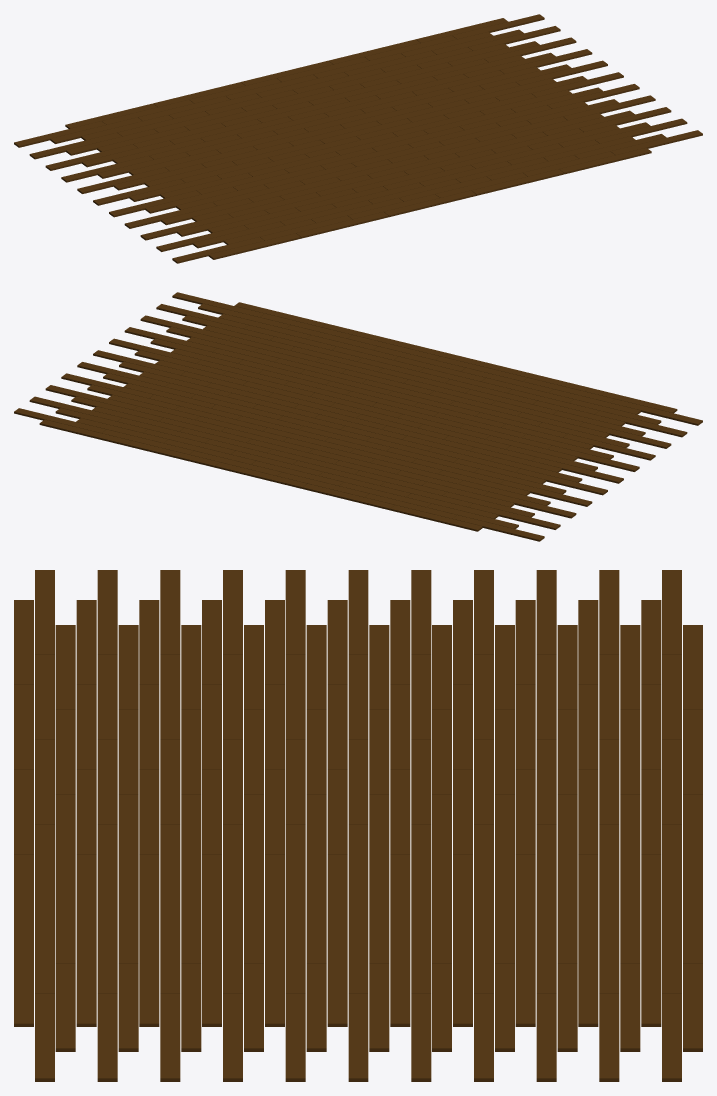
The model's file is Floor.fbx.
3 renders of one model, top to bottom at view 1: azimuth 30°, elevation 25°; view 2: azimuth 150°, elevation 25°; view 3: azimuth 270°, elevation 25°, orthographic. The views are drawn at different scales.
Visible parts, largest first — view 1: Floor; view 2: Floor; view 3: Floor.
Part boxes in pixels (x1,y1,x2,y2): Floor: (14, 14, 702, 263); Floor: (14, 292, 702, 541); Floor: (14, 570, 702, 1081).
Size of the model in its own units: 30.08 by 0.0961 by 17.23.
